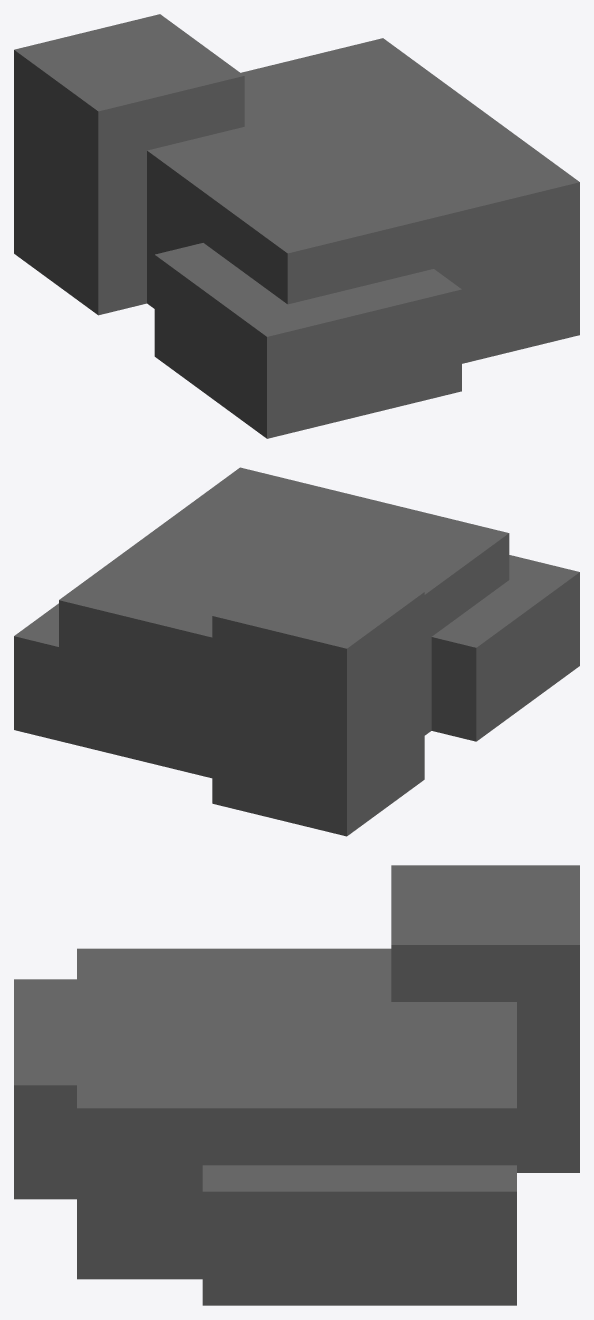
Rendered from Stone-2.obj.
3 renders of one model, top to bottom at view 1: azimuth 30°, elevation 25°; view 2: azimuth 150°, elevation 25°; view 3: azimuth 270°, elevation 25°, orthographic. The views are drawn at different scales.
Size of the model in its own units: 0.8 by 0.4 by 0.9.
Materials: 1 (1 with a texture image).
